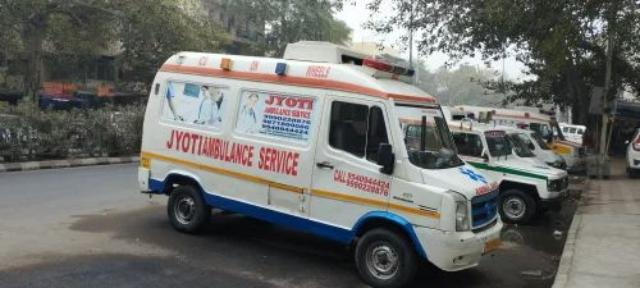ambulance: (137, 37, 507, 282)
